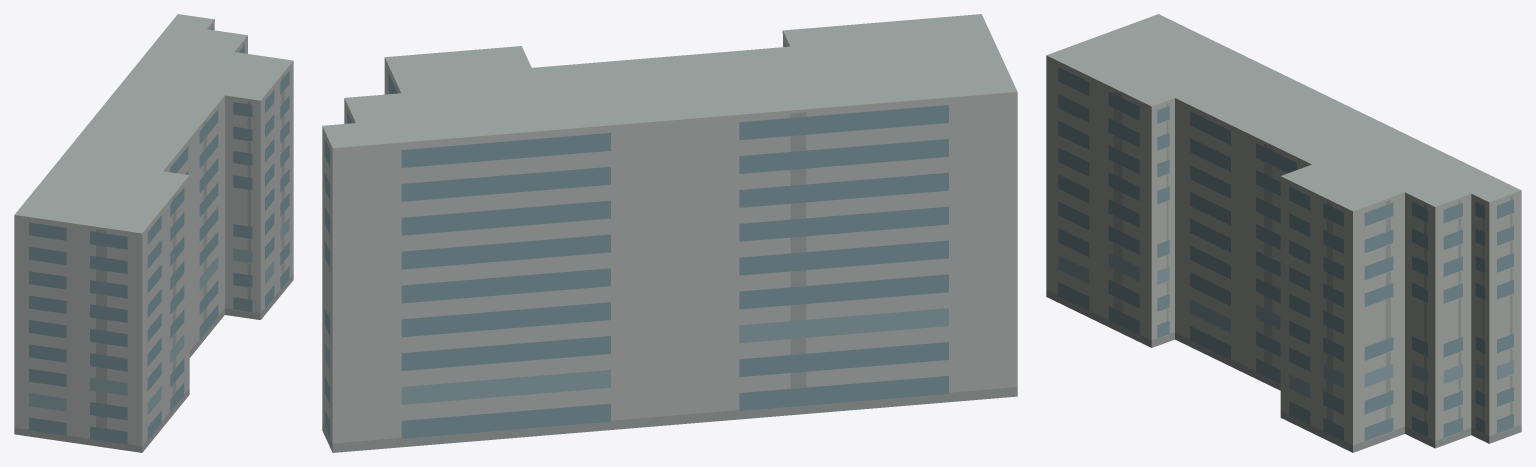
File: residential-42a4b2c2-fe6d-4bdb-8882-61d4771ac51f.glb
3 views of the same model, side by side, from view 1: azimuth 30°, elevation 25°; view 2: azimuth 150°, elevation 25°; view 3: azimuth 270°, elevation 25° (orthographic). The views are drawn at different scales.
Visible parts, largest first — view 1: residential-42a4b2c2-fe6d-4bdb-8882-61d4771ac51f.tmp; view 2: residential-42a4b2c2-fe6d-4bdb-8882-61d4771ac51f.tmp; view 3: residential-42a4b2c2-fe6d-4bdb-8882-61d4771ac51f.tmp.
Boxes of the visible parts, x1,y1,x2,y2 form: residential-42a4b2c2-fe6d-4bdb-8882-61d4771ac51f.tmp: (14, 14, 293, 452); residential-42a4b2c2-fe6d-4bdb-8882-61d4771ac51f.tmp: (322, 14, 1017, 452); residential-42a4b2c2-fe6d-4bdb-8882-61d4771ac51f.tmp: (1046, 14, 1521, 452).
Size of the model in its own units: 43.82 by 25 by 44.6.
